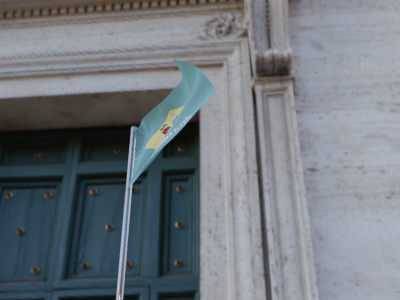Delaware flag: (129, 59, 218, 184)
